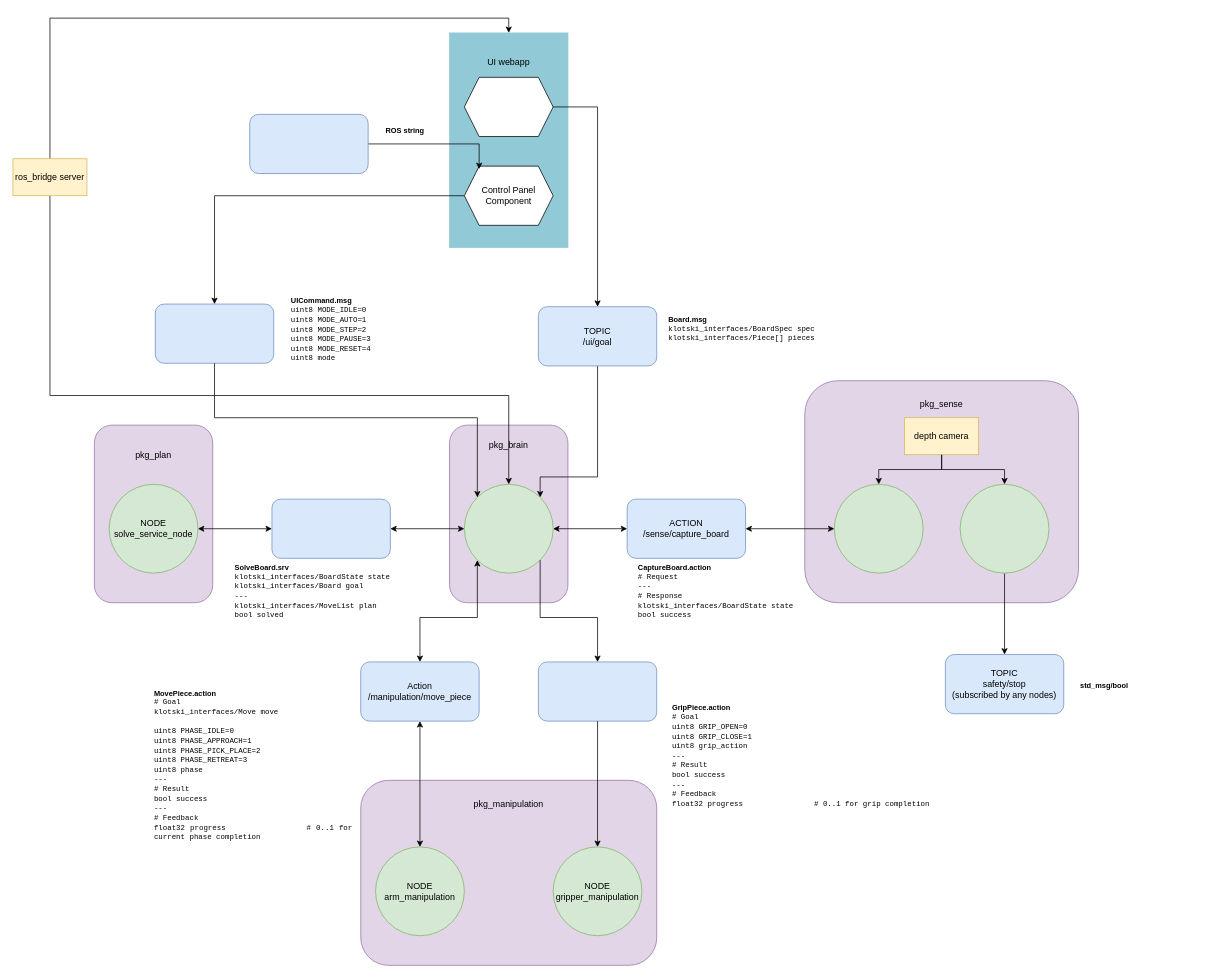
The diagram is 1217 pixels wide and 978 high, and some of its shapes have lost their labels. Each missing label, with the centre of its shape:
"Action /manipulation/grip_piece" goes at (597,691).
"Goal Editor Component" goes at (508,107).
"NODE hand_safety" goes at (1004,528).
"NODE sense" goes at (878,528).
"NODE task_brain" goes at (508,528).
"Service /plan/solve" goes at (330,528).
"TOPIC /ui/cmd" goes at (214,333).
"TOPIC /ui/event (published from any nodes)" goes at (308,144).
